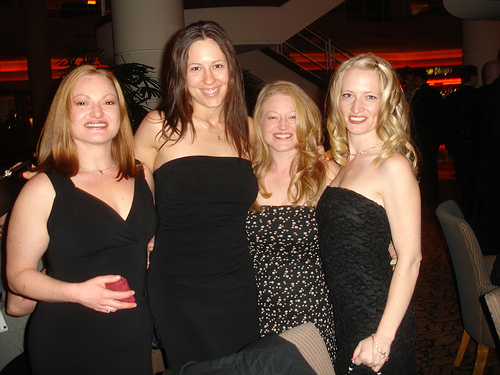without_mask: (324, 57, 413, 152), (56, 65, 137, 156), (171, 33, 245, 116), (248, 80, 320, 164)
